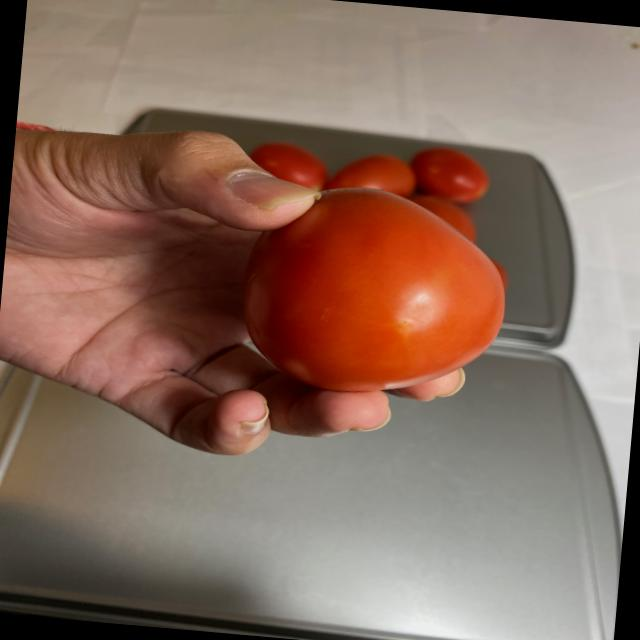tomato: (228, 130, 518, 406)
